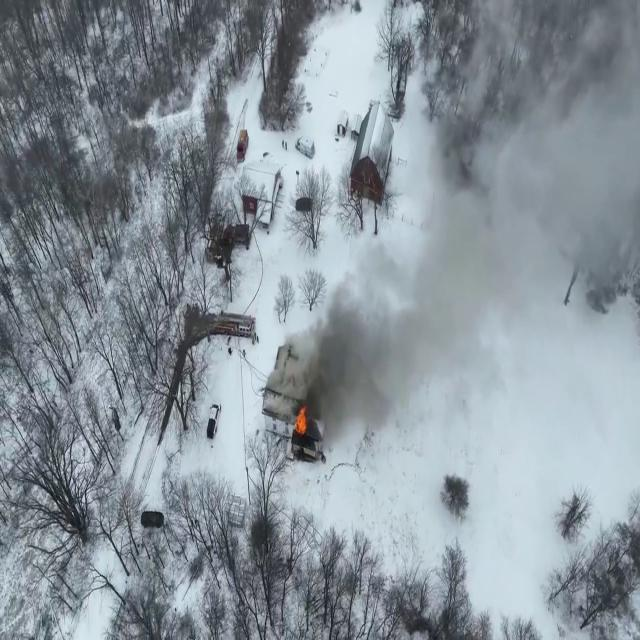Fire: (292, 398, 310, 446)
Smoke: (311, 0, 640, 436)
